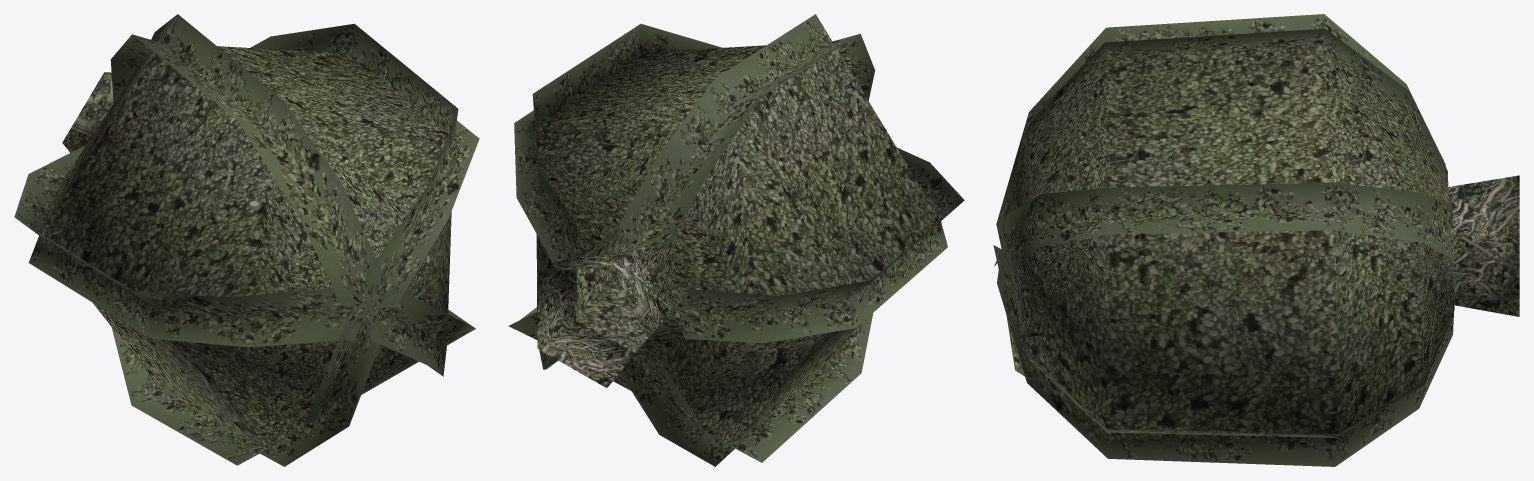
The model's file is foliage_hedge_gumdrop_1_LOD2.obj.
3 renders of one model, left to right at view 1: azimuth 30°, elevation 25°; view 2: azimuth 150°, elevation 25°; view 3: azimuth 270°, elevation 25°, orthographic. The views are drawn at different scales.
Visible parts, largest first — view 1: mtl_hedges_noalpha, mtl_hedges_noshadow; view 2: mtl_hedges_noalpha, mtl_hedges_noshadow; view 3: mtl_hedges_noalpha, mtl_hedges_noshadow.
Boxes of the visible parts, box(x1,y1,x2,y2) form: mtl_hedges_noalpha: box(40, 46, 451, 449); mtl_hedges_noshadow: box(14, 14, 479, 466); mtl_hedges_noalpha: box(536, 45, 940, 445); mtl_hedges_noshadow: box(508, 14, 964, 466); mtl_hedges_noalpha: box(1013, 45, 1519, 433); mtl_hedges_noshadow: box(993, 14, 1454, 466).
Bounding box in the file's own units: 113 × 117 × 134.
